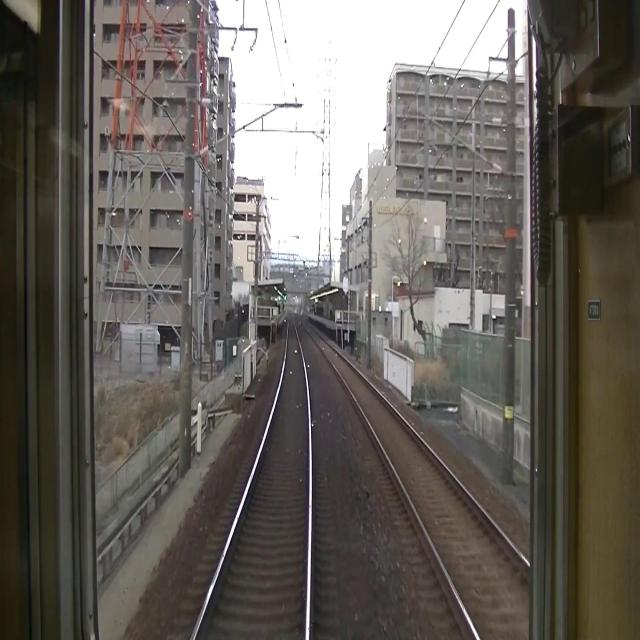rail-track: (307, 325, 527, 639), (195, 322, 308, 639)
